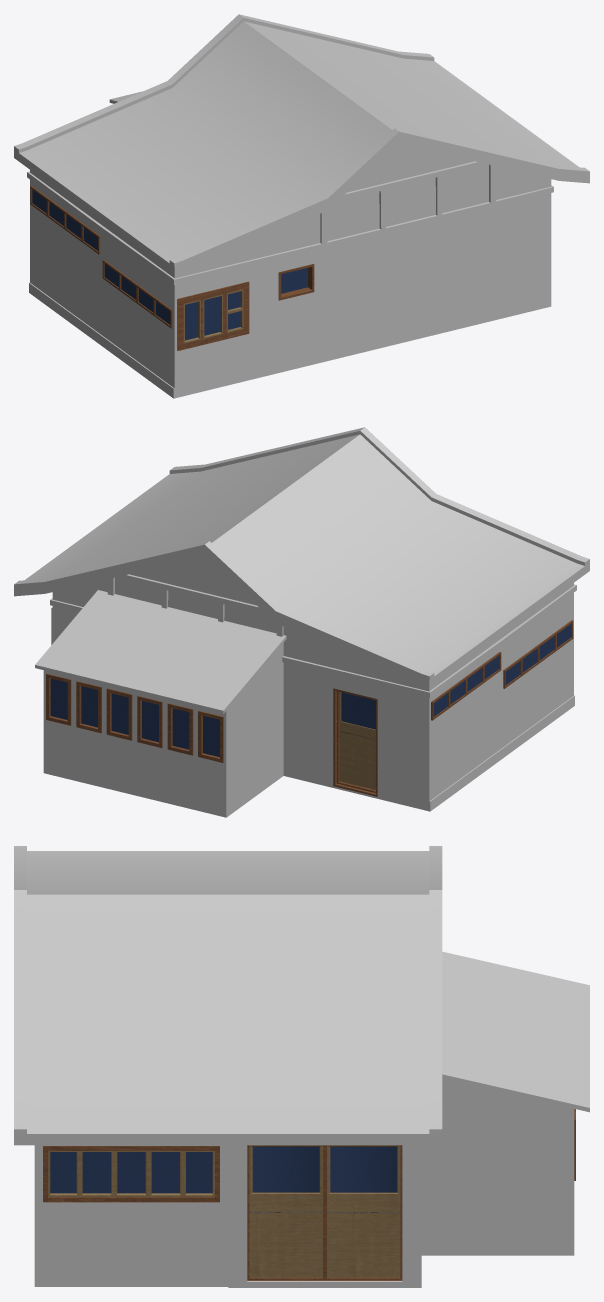
The model's file is House1-2.fbx.
3 renders of one model, top to bottom at view 1: azimuth 30°, elevation 25°; view 2: azimuth 150°, elevation 25°; view 3: azimuth 270°, elevation 25°, orthographic. The views are drawn at different scales.
Parts seen in each view (by area): view 1: House1-2; view 2: House1-2; view 3: House1-2.
Boxes of the visible parts, <box> form: House1-2: <box>14,14,589,398</box>; House1-2: <box>14,427,589,817</box>; House1-2: <box>14,846,589,1287</box>.
Bounding box in the file's own units: 662 × 334 × 595.
